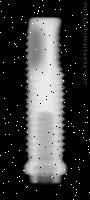Nobel Biocare: (23, 15, 68, 185)
